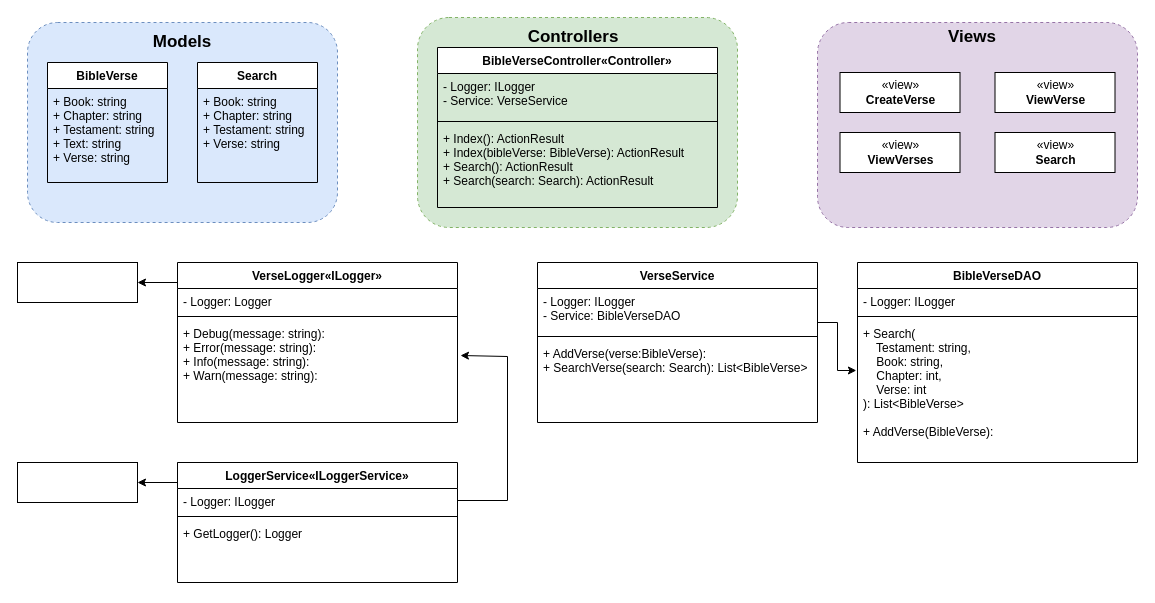
Some shapes in this 1155 by 603 pixel diagram are drawn without their labels. The shapes that lost their labels are listed below. From the top down, each one's centre as x and y in pixels, then its label:
At point 77,282: "«interface» ILogger".
At point 77,482: "«interface» ILoggerService".
